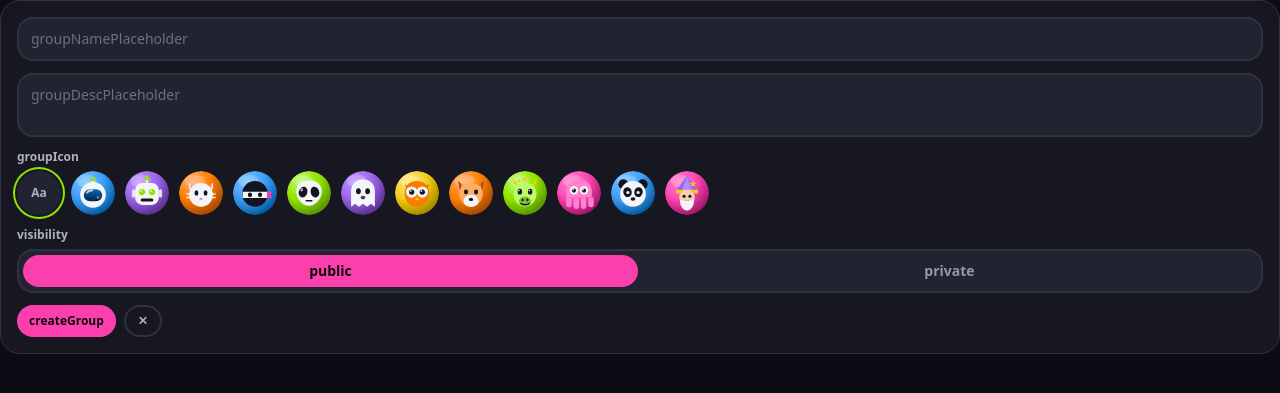
Scenario: CreateGroupForm › shows the private hint only when private is selected
The width and height of the screenshot is (1280, 393).
Expected: the text "privateHint" is not shown
Click the button "private".
click(950, 271)  # box [642, 255, 1257, 287]
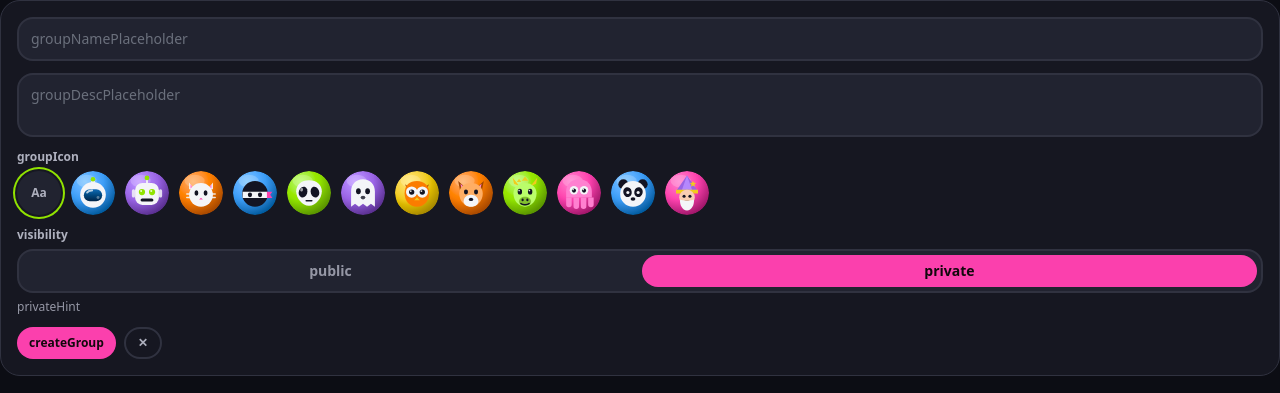
Expected: the text "privateHint" is shown, [17, 298, 80, 315]
